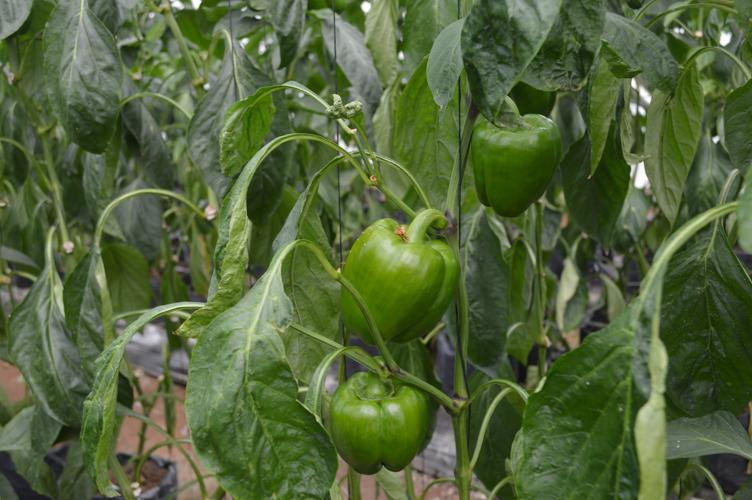BellPepper: (341, 219, 460, 344), (328, 372, 430, 476), (464, 116, 562, 213)
